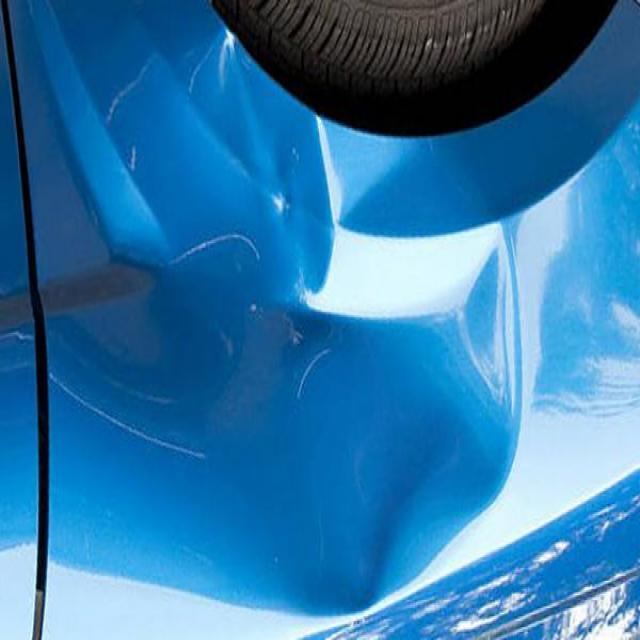dent: (182, 118, 543, 628)
